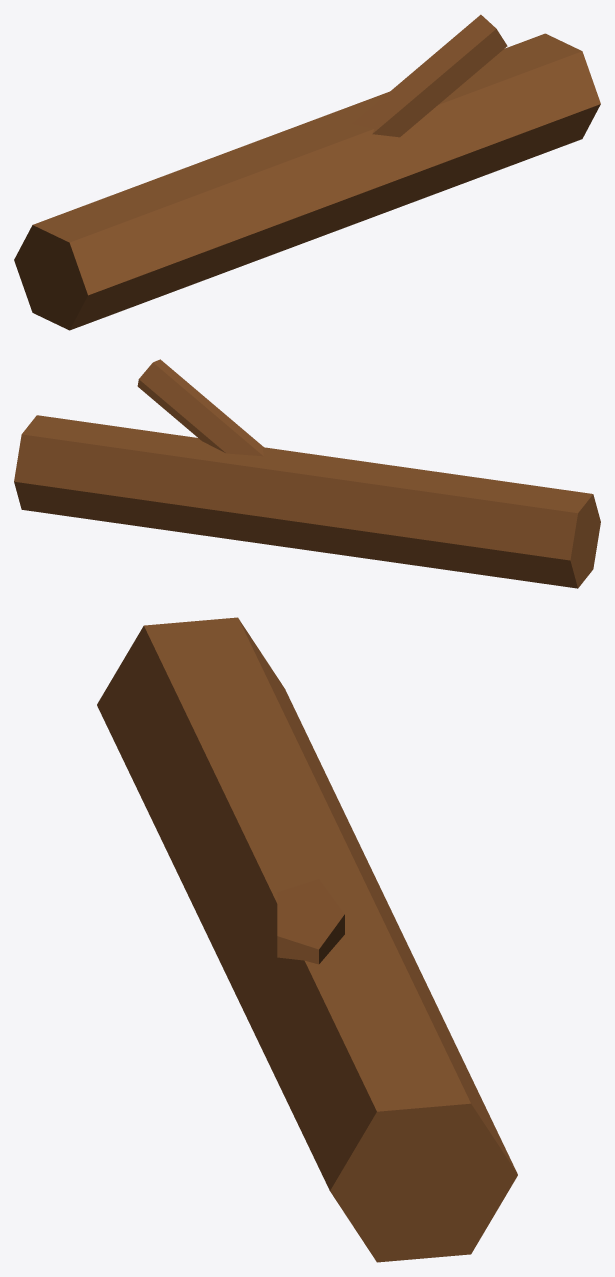
The model's file is driftwood_log.glb.
3 views of the same model, one above another, from view 1: azimuth 30°, elevation 25°; view 2: azimuth 150°, elevation 25°; view 3: azimuth 270°, elevation 25° (orthographic). The views are drawn at different scales.
Parts seen in each view (by area): view 1: driftwood_log; view 2: driftwood_log; view 3: driftwood_log.
Part boxes in pixels (<box>): driftwood_log: <box>14,14,600,330</box>; driftwood_log: <box>14,359,600,588</box>; driftwood_log: <box>97,617,517,1262</box>.
Size of the model in its own units: 2.23 by 0.5885 by 0.7899.
